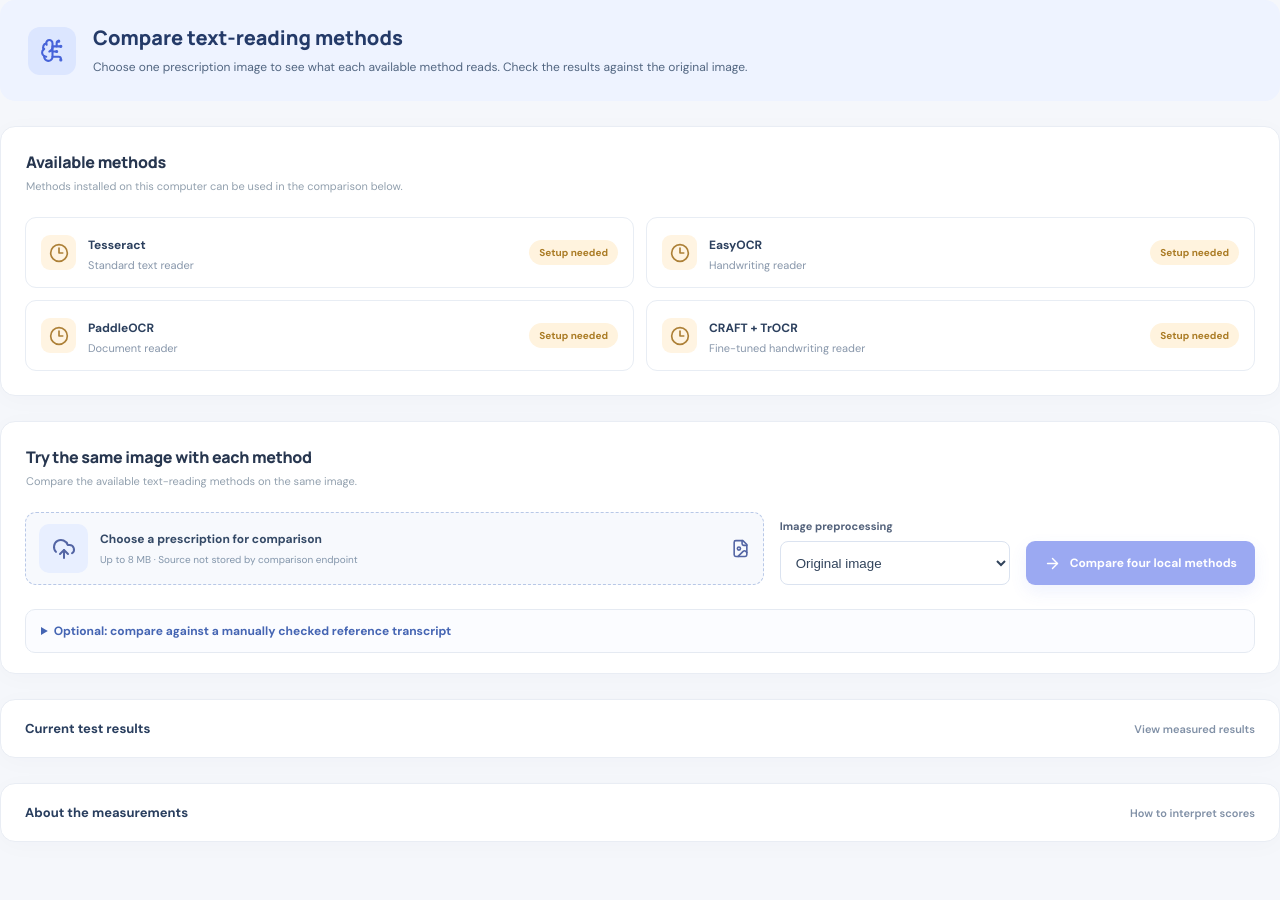
Test: model comparison page › labels development numbers as development numbers
The width and height of the screenshot is (1280, 900).
Click the heading "Current test results View measured results" at (88, 729), box [25,720,1255,737]
(page scrolled)
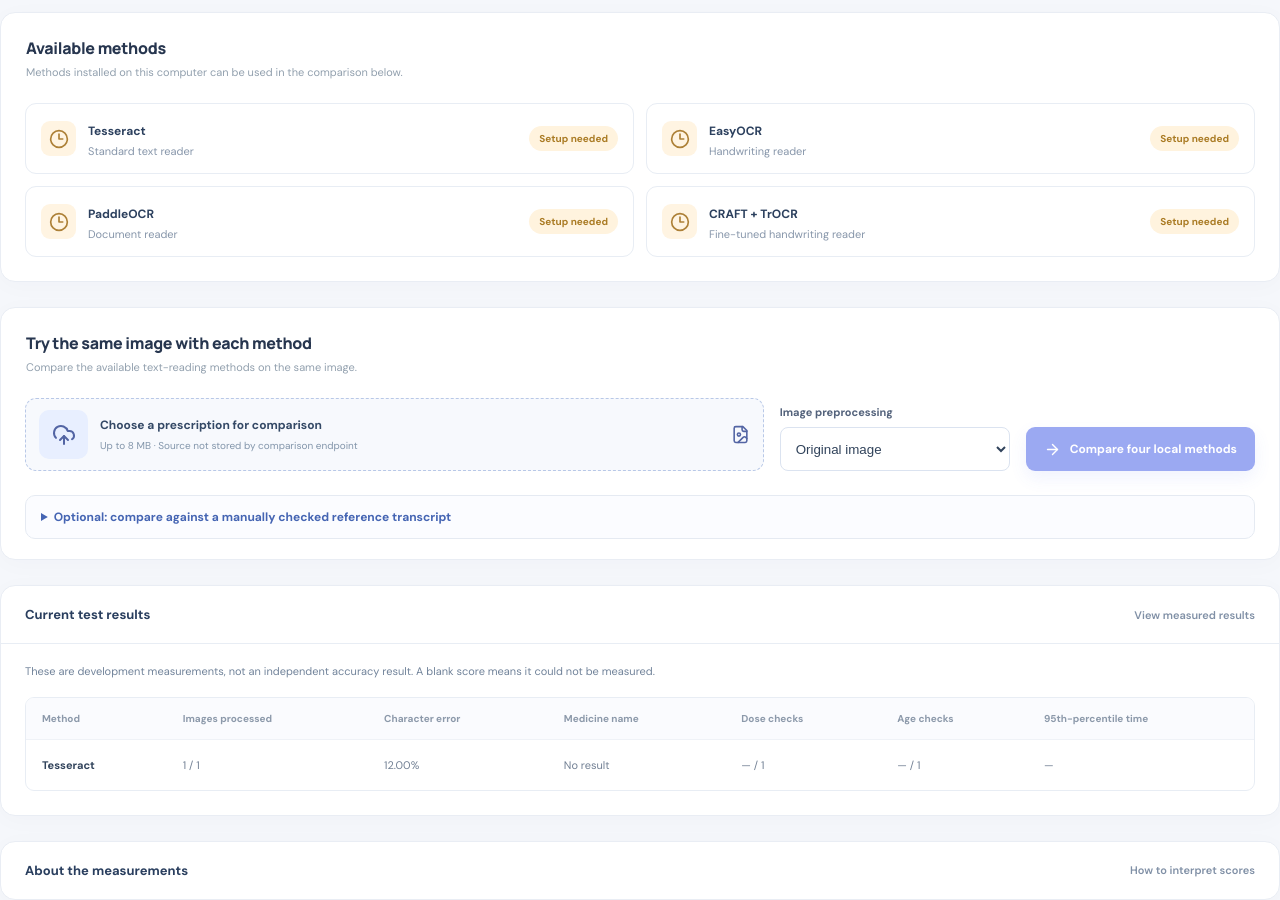
Expected: the text "development measurements, not an independent accuracy result" is shown, [25,664,413,678]
Expected: the text "12.00%" is shown, [368,739,548,790]
